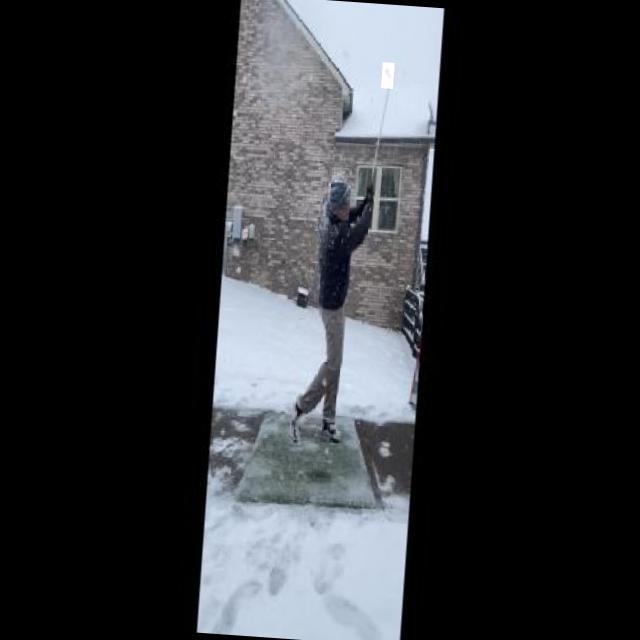club head: (380, 62, 394, 89)
